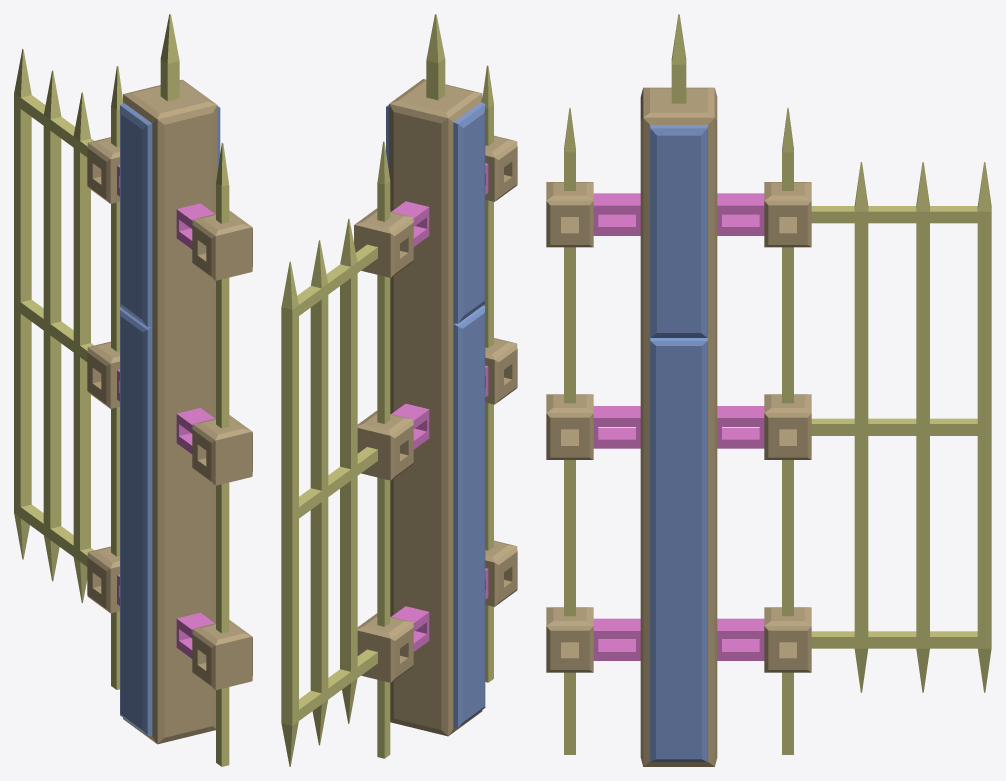
Rendered from TechFenceEnd.fbx.
The picture shows the model from 3 angles, left to right: view 1: azimuth 30°, elevation 25°; view 2: azimuth 150°, elevation 25°; view 3: azimuth 270°, elevation 25°; orthographic projection. The views are drawn at different scales.
Parts seen in each view (by area): view 1: TechFence2_end; view 2: TechFence2_end; view 3: TechFence2_end.
Boxes of the visible parts, bbox=[...] form: TechFence2_end: bbox=[14, 14, 252, 766]; TechFence2_end: bbox=[281, 14, 517, 766]; TechFence2_end: bbox=[546, 14, 991, 766].
Size of the model in its own units: 38.83 by 342 by 186.
